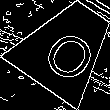O_NE: (32, 14, 100, 80)
